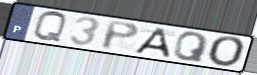3: (69, 16, 103, 48)
A: (132, 26, 172, 59)
O: (206, 35, 248, 69)
P: (100, 19, 142, 52)
Q: (31, 10, 69, 44), (172, 31, 211, 64)
